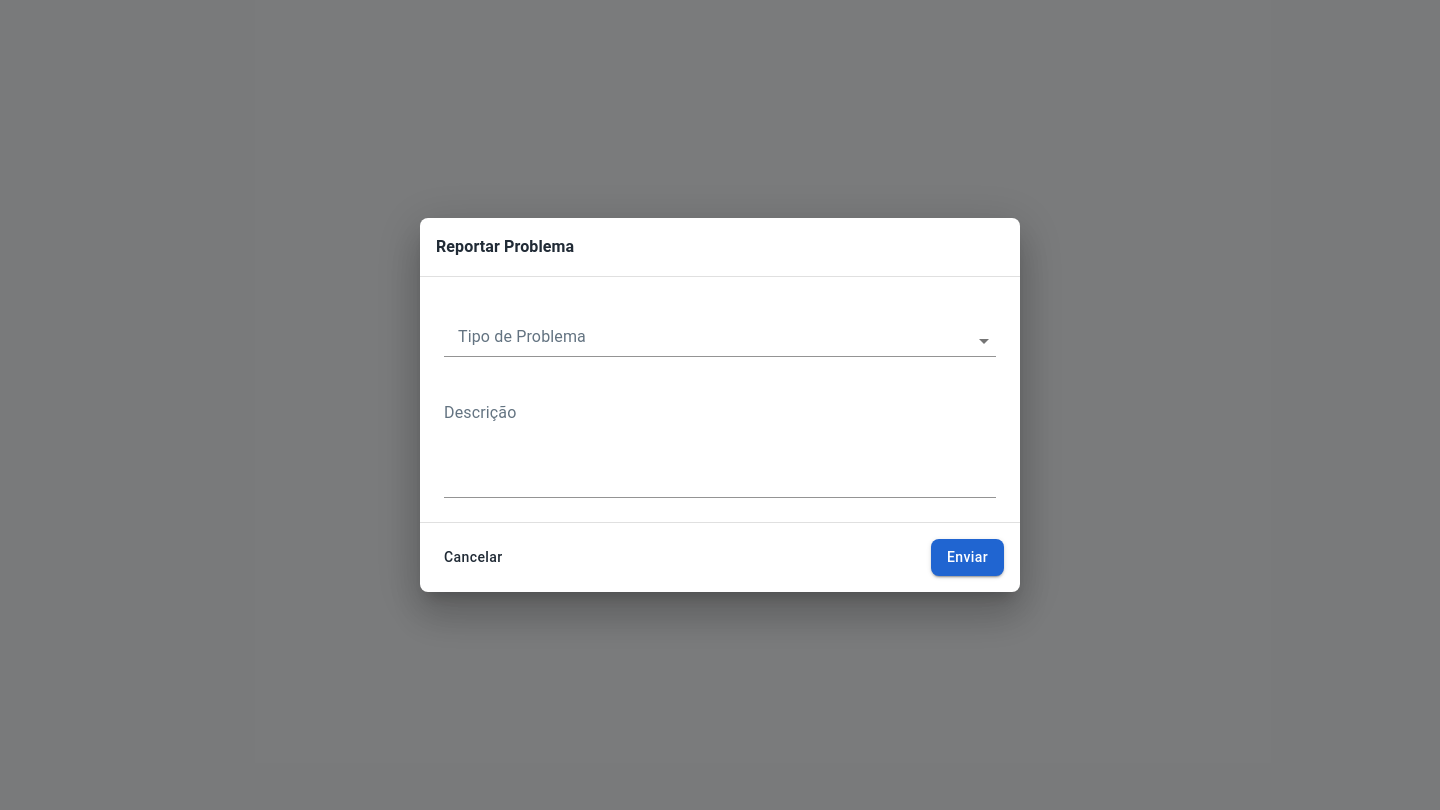
it: ReportErrorDialog (M11) › bloqueia o envio e mostra erro quando nenhum tipo é escolhido
Click the button "Enviar": click(967, 557) [931,539,1004,576]
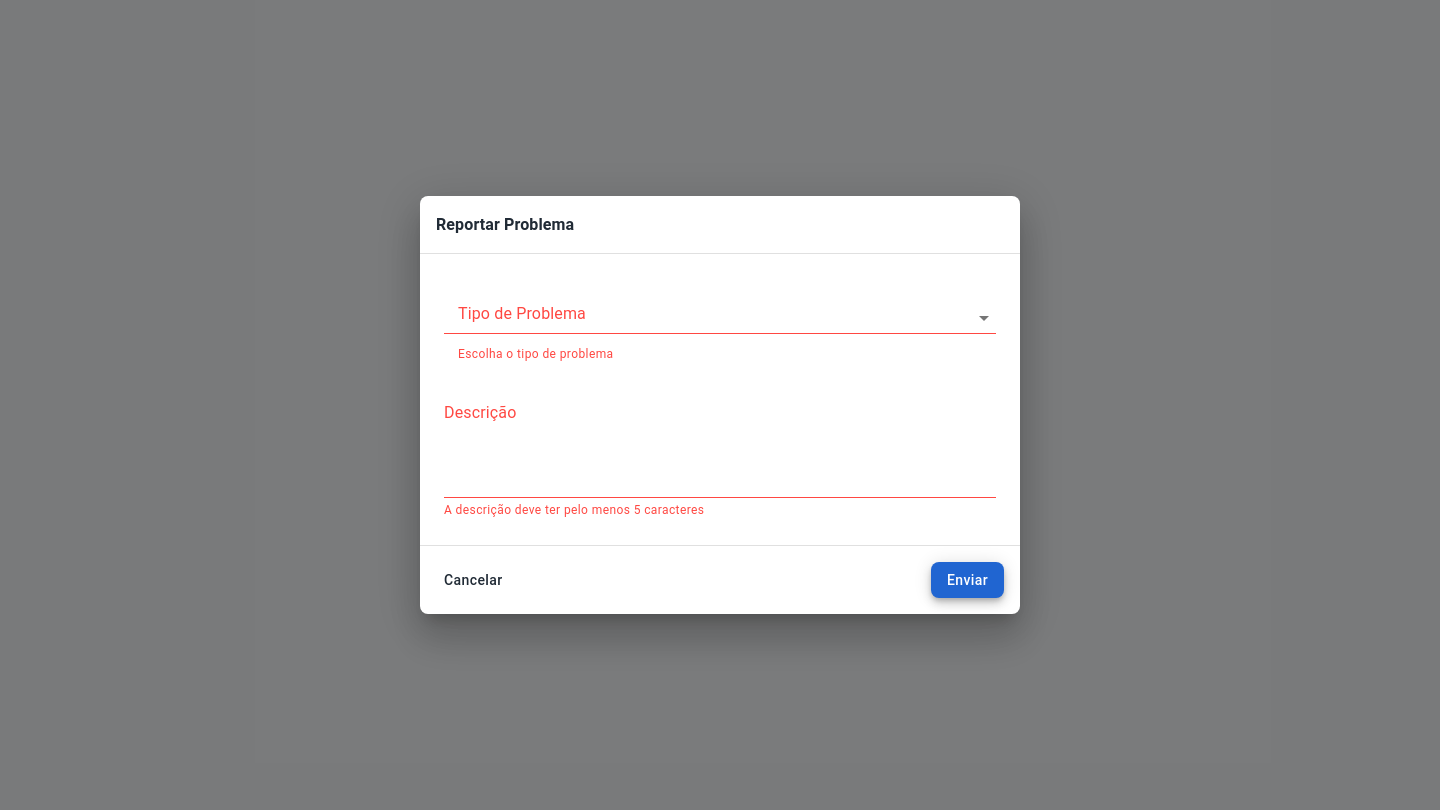
expect the text "Escolha o tipo de problema" is shown: met, box [458,347,614,361]
